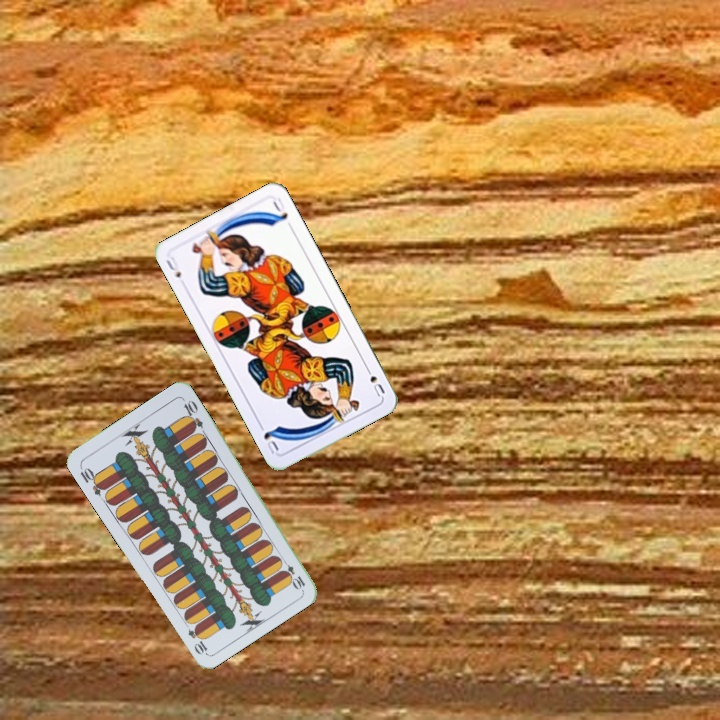E10: (76, 462, 108, 498), (277, 555, 308, 592)
SU: (361, 361, 388, 399), (162, 252, 184, 281)
